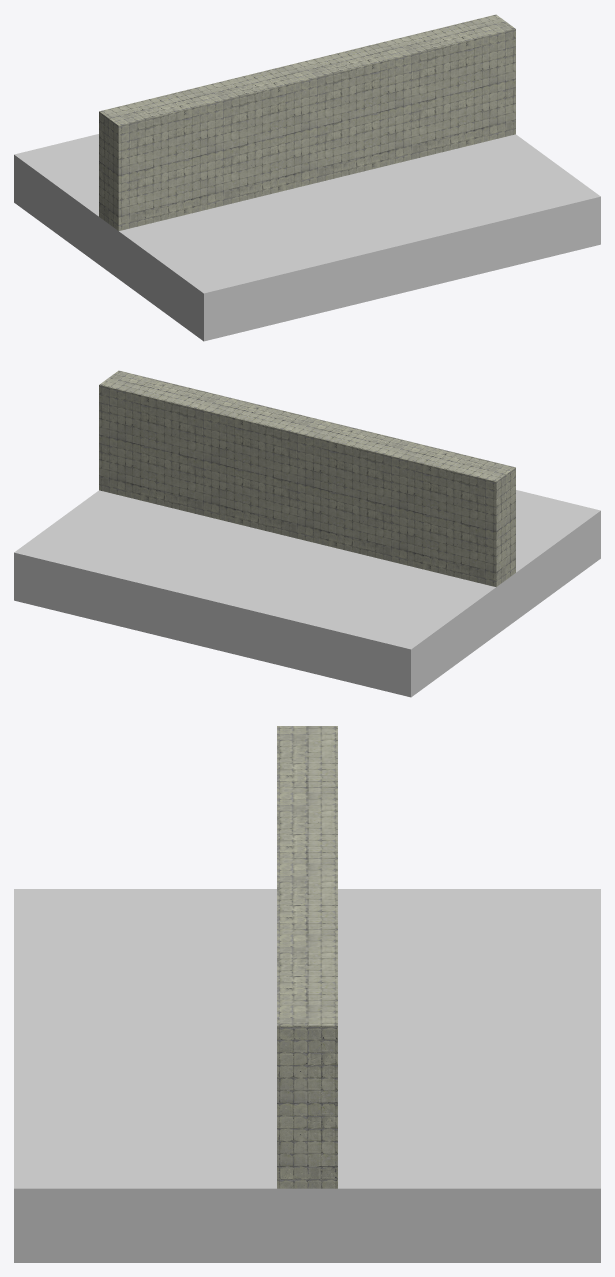
Rendered from SM_TheSamePlace_10_Block_00.fbx.
The picture shows the model from 3 angles, top to bottom: view 1: azimuth 30°, elevation 25°; view 2: azimuth 150°, elevation 25°; view 3: azimuth 270°, elevation 25°; orthographic projection. The views are drawn at different scales.
Visible parts, largest first — view 1: SM_TheSamePlace_10_Block_00; view 2: SM_TheSamePlace_10_Block_00; view 3: SM_TheSamePlace_10_Block_00.
Part boxes in pixels (x1,y1,x2,y2): SM_TheSamePlace_10_Block_00: (14, 14, 600, 341); SM_TheSamePlace_10_Block_00: (14, 370, 600, 697); SM_TheSamePlace_10_Block_00: (14, 726, 600, 1262).
Bounding box in the file's own units: 2057 × 759 × 1703.
